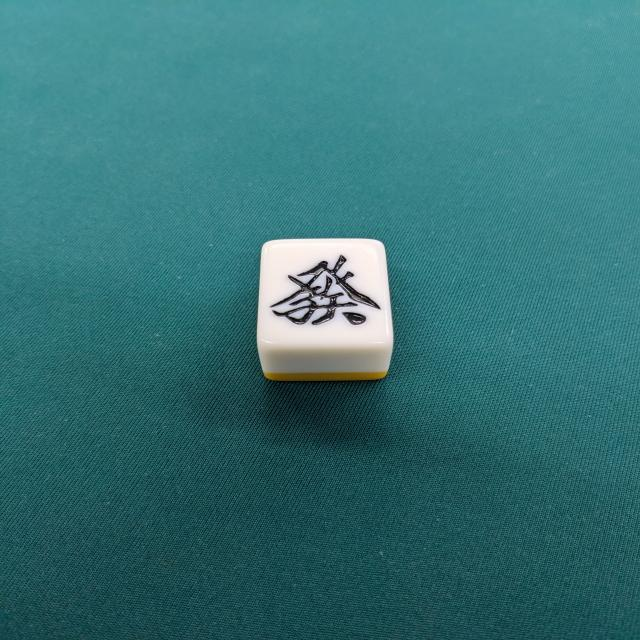hatu: (256, 239, 394, 384)
